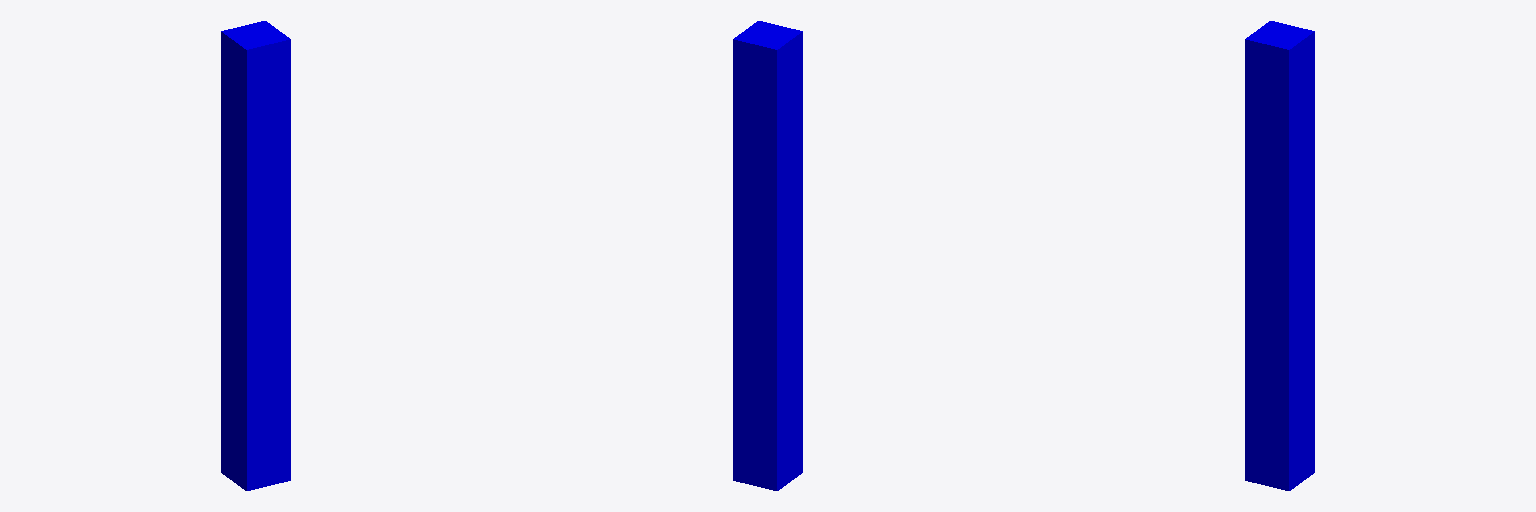
URDF robot description (simple_box):
<?xml version="1.0" ?>
<robot name="simple_box">
  <link name="unknown_obstacle_box">
    <inertial>
      <mass value="500"/>
      <origin xyz="0 0 0.475" rpy="0 0 0"/>
      <inertia ixx="10000" ixy="0" ixz="0" iyy="10000" iyz="0" izz="10000"/>
    </inertial>
    <visual>
      <origin xyz="0 0 0.475"/>
      <geometry>
        <box size="0.1 0.1 0.95" />
      </geometry>
      <material name="Blue">
        <color rgba="0 0 1.0 1.0"/>
      </material>
    </visual>
    <collision>
      <origin xyz="0 0 0.475"/>
      <geometry>
        <box size="0.3 0.3 0.95" />
      </geometry>
    </collision>
  </link>
  <gazebo reference="unknown_obstacle_box">
    <material>Gazebo/Blue</material>
  </gazebo>
</robot>

--- What the picture shows (computed from the rendered views, not written in the file) ---
Views: 3 orthographic renders of the robot side by side, from view 1: azimuth 30°, elevation 25°; view 2: azimuth 150°, elevation 25°; view 3: azimuth 330°, elevation 25°.
Robot: simple_box — 1 links, 0 joints (none); root link unknown_obstacle_box; default pose: all joints at 0.
Links seen in each view (by area): view 1: unknown_obstacle_box; view 2: unknown_obstacle_box; view 3: unknown_obstacle_box.
Link boxes in pixels (left/top/right/bottom): unknown_obstacle_box: left=221, top=21, right=290, bottom=490; unknown_obstacle_box: left=733, top=21, right=802, bottom=490; unknown_obstacle_box: left=1245, top=21, right=1314, bottom=490.
Size in the robot's own frame: 0.1 by 0.1 by 0.95 metres.
Geometry: primitives only (box / cylinder / sphere), no mesh files.